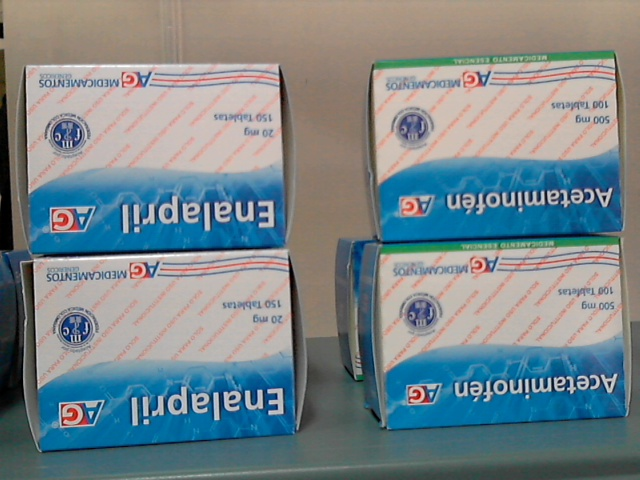AG: (37, 260, 295, 445), (27, 65, 285, 248), (374, 53, 622, 234), (381, 245, 624, 425)
